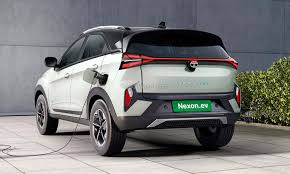Tata Nexon: (32, 14, 243, 160)
